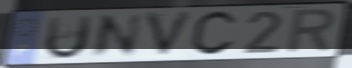2: (239, 9, 284, 56)
C: (188, 9, 240, 58)
N: (87, 12, 145, 61)
R: (283, 6, 340, 56)
U: (42, 14, 95, 62)
V: (142, 9, 197, 61)
